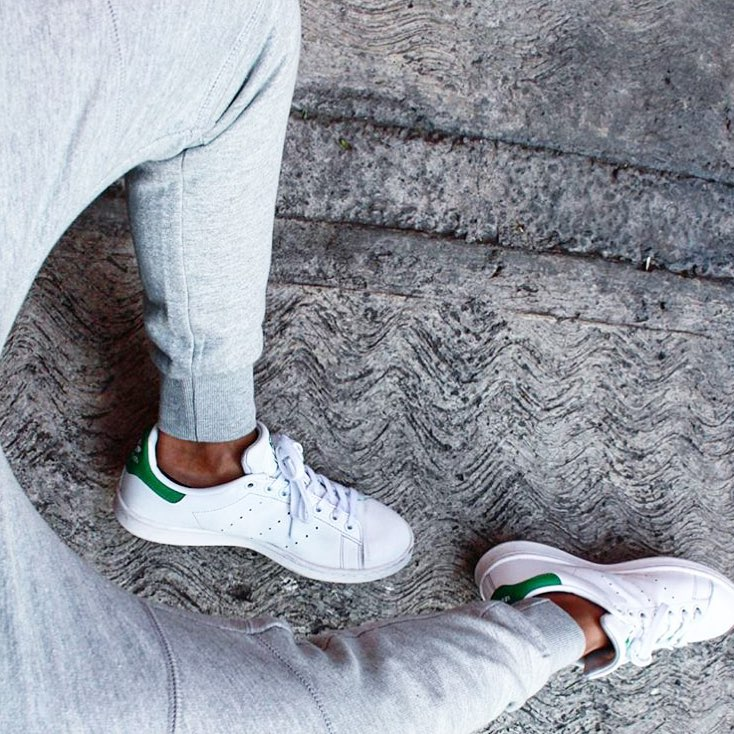sneaker: (78, 388, 437, 607), (445, 510, 734, 694)
